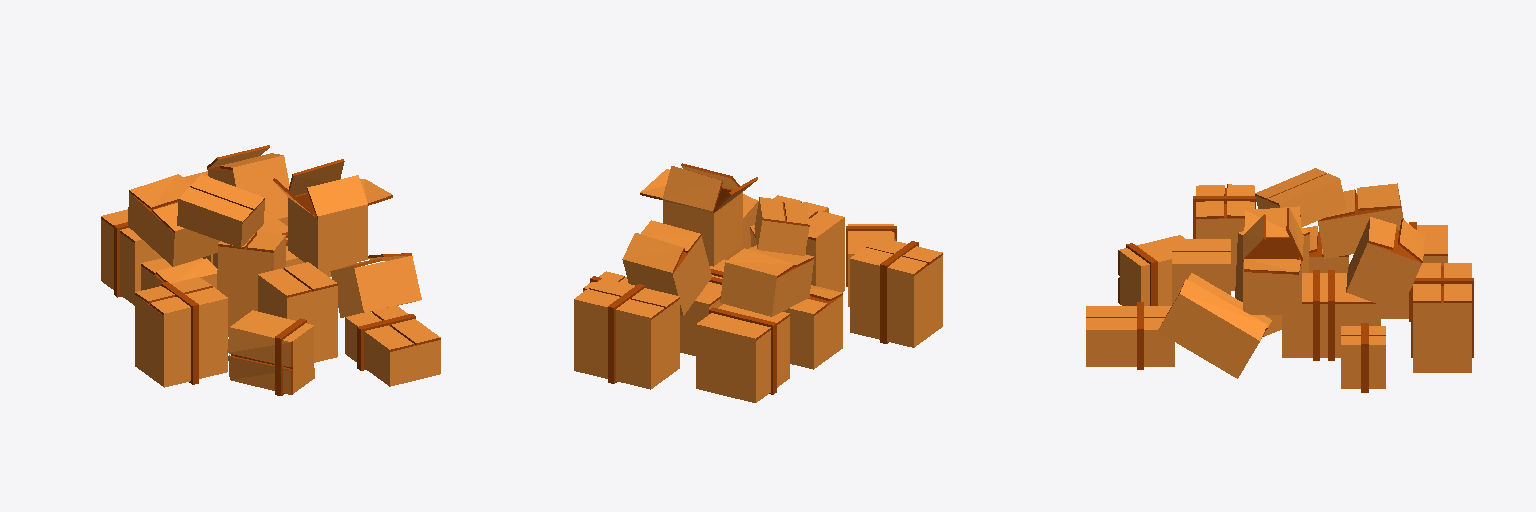
The picture shows the model from 3 angles: view 1: azimuth 30°, elevation 25°; view 2: azimuth 150°, elevation 25°; view 3: azimuth 270°, elevation 25°; orthographic projection.
Visible parts, largest first — view 1: group[number redacted], group[number redacted], group[number redacted], group[number redacted], group[number redacted], group[number redacted], group[number redacted], group[number redacted], group[number redacted], group[number redacted], group[number redacted], group[number redacted] (+4 smaller); view 2: group[number redacted], group[number redacted], group[number redacted], group[number redacted], group[number redacted], group[number redacted], group[number redacted], group[number redacted], group[number redacted], group[number redacted], group[number redacted], group[number redacted] (+4 smaller); view 3: group[number redacted], group[number redacted], group[number redacted], group[number redacted], group[number redacted], group[number redacted], group[number redacted], group[number redacted], group[number redacted], group[number redacted], group[number redacted], group[number redacted] (+10 smaller).
Part boxes in pixels (bbox=[...]): group[number redacted]: bbox=[135, 277, 227, 387]; group[number redacted]: bbox=[227, 310, 314, 395]; group[number redacted]: bbox=[345, 306, 440, 386]; group[number redacted]: bbox=[258, 262, 337, 362]; group[number redacted]: bbox=[128, 174, 219, 266]; group[number redacted]: bbox=[177, 174, 264, 247]; group[number redacted]: bbox=[288, 193, 367, 270]; group[number redacted]: bbox=[330, 253, 421, 317]; group[number redacted]: bbox=[217, 232, 285, 336]; group[number redacted]: bbox=[207, 145, 289, 222]; group[number redacted]: bbox=[101, 209, 161, 305]; group[number redacted]: bbox=[307, 175, 367, 218]; group[number redacted]: bbox=[574, 278, 679, 389]; group[number redacted]: bbox=[850, 237, 942, 347]; group[number redacted]: bbox=[696, 304, 789, 402]; group[number redacted]: bbox=[622, 220, 711, 315]; group[number redacted]: bbox=[720, 245, 813, 316]; group[number redacted]: bbox=[783, 285, 842, 369]; group[number redacted]: bbox=[663, 187, 742, 266]; group[number redacted]: bbox=[754, 197, 809, 255]; group[number redacted]: bbox=[806, 208, 844, 292]; group[number redacted]: bbox=[662, 166, 722, 212]; group[number redacted]: bbox=[680, 259, 726, 355]; group[number redacted]: bbox=[846, 224, 896, 306]; group[number redacted]: bbox=[1157, 273, 1271, 378]; group[number redacted]: bbox=[1413, 263, 1471, 372]; group[number redacted]: bbox=[1346, 217, 1424, 312]; group[number redacted]: bbox=[1086, 302, 1174, 369]; group[number redacted]: bbox=[1282, 273, 1380, 357]; group[number redacted]: bbox=[1318, 183, 1403, 258]; group[number redacted]: bbox=[1118, 235, 1184, 305]; group[number redacted]: bbox=[1243, 237, 1301, 314]; group[number redacted]: bbox=[1255, 168, 1346, 227]; group[number redacted]: bbox=[1196, 184, 1254, 290]; group[number redacted]: bbox=[1172, 239, 1230, 304]; group[number redacted]: bbox=[1341, 326, 1385, 388].
Size of the model in its own units: 1.21 by 0.6188 by 1.52.